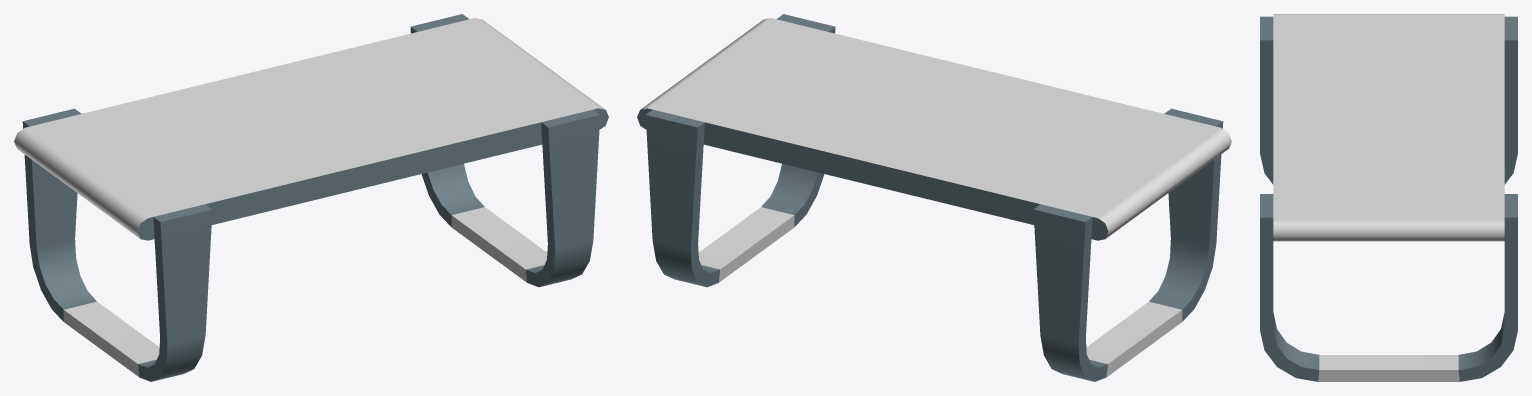
Rendered from Desk_039.fbx.
3 views of the same model, side by side, from view 1: azimuth 30°, elevation 25°; view 2: azimuth 150°, elevation 25°; view 3: azimuth 270°, elevation 25° (orthographic). The views are drawn at different scales.
Parts seen in each view (by area): view 1: Desk_039; view 2: Desk_039; view 3: Desk_039.
Boxes of the visible parts, <box> form: Desk_039: <box>14,14,608,381</box>; Desk_039: <box>637,14,1231,381</box>; Desk_039: <box>1260,14,1517,381</box>.
Size of the model in its own units: 232 by 117 by 84.83.
